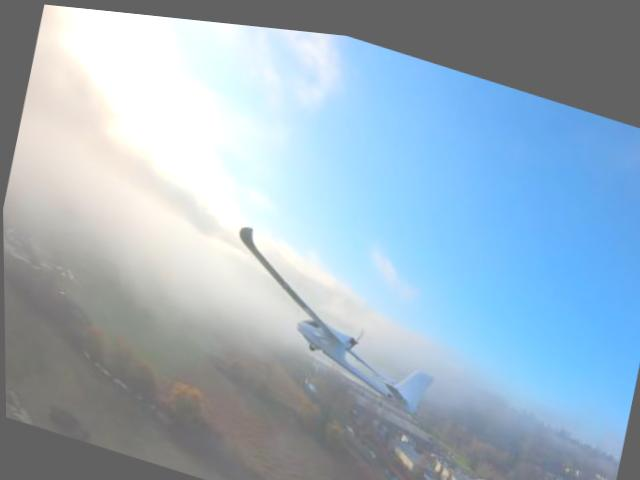uav: (199, 203, 466, 424)
